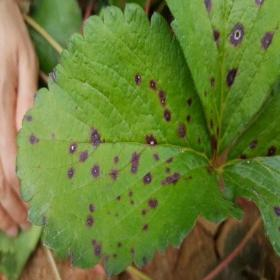Leaf Spot: (15, 2, 243, 279), (164, 0, 279, 160), (218, 79, 279, 259)
